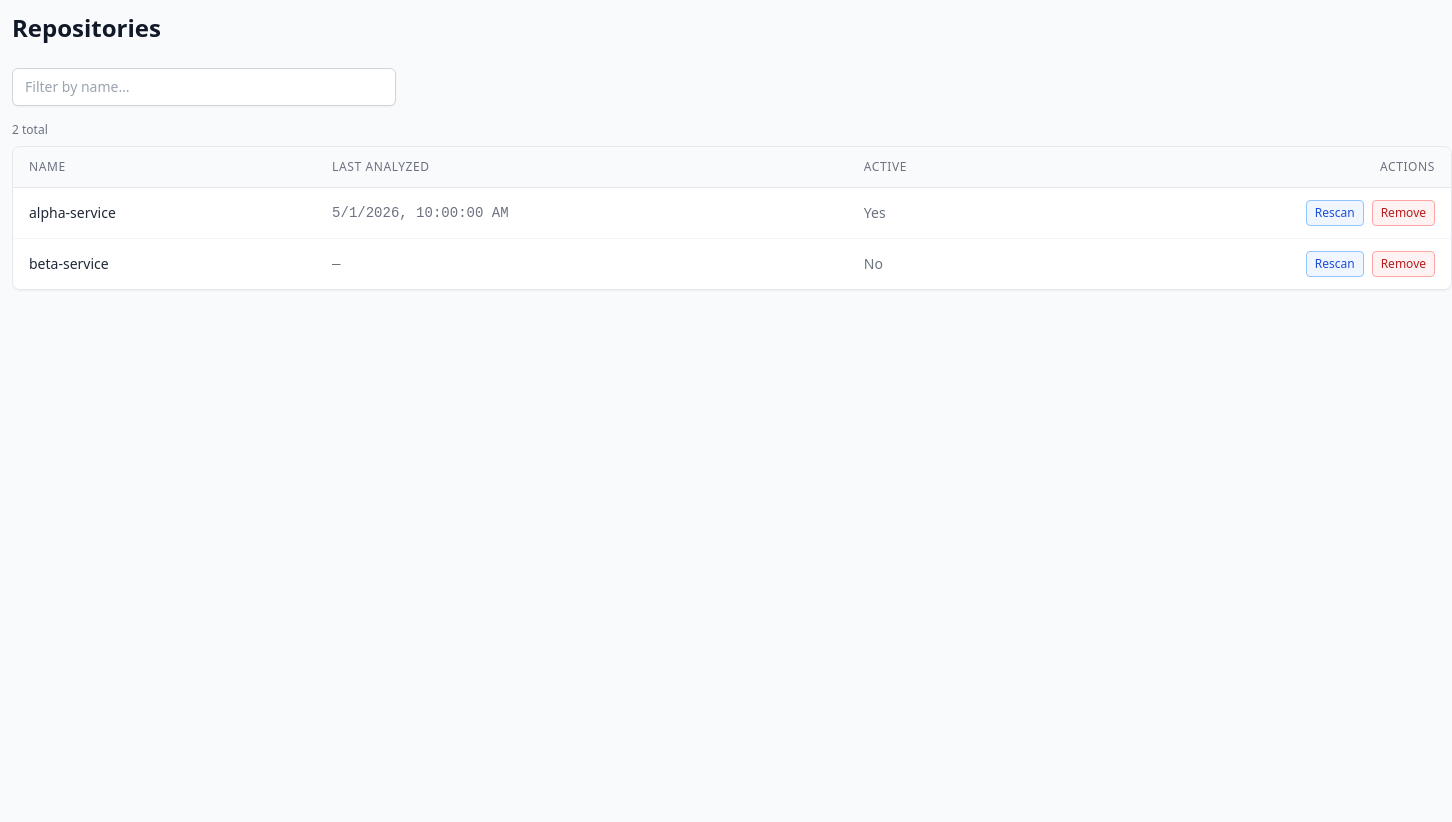
RepositoriesPage › shows success toast after Rescan
Click the button "Rescan" in the row of "alpha-service" at coordinates (1335, 213), box [1306,200,1364,226]
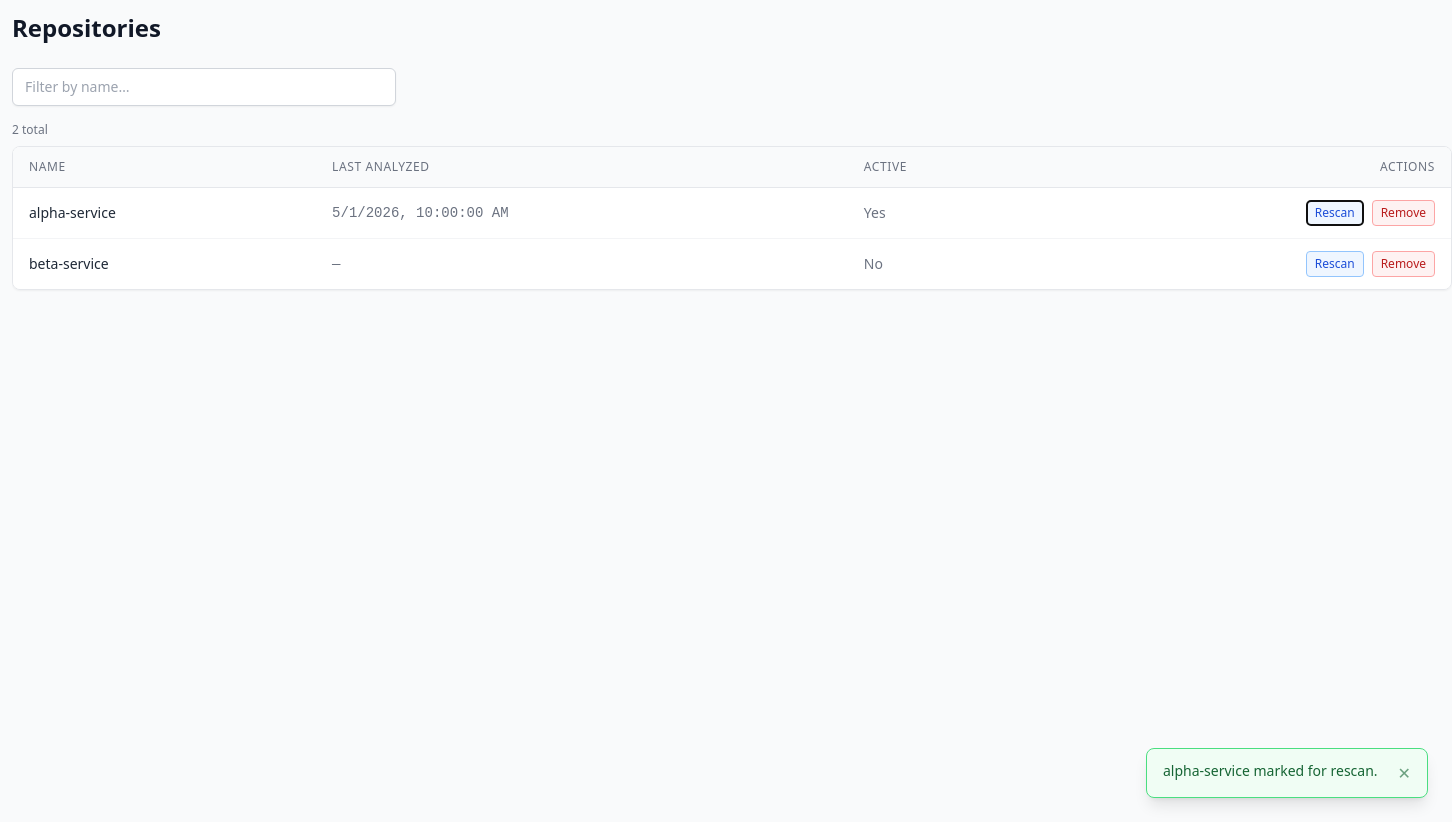
Expected: the message shows "alpha-service", [1163,761,1378,780]
